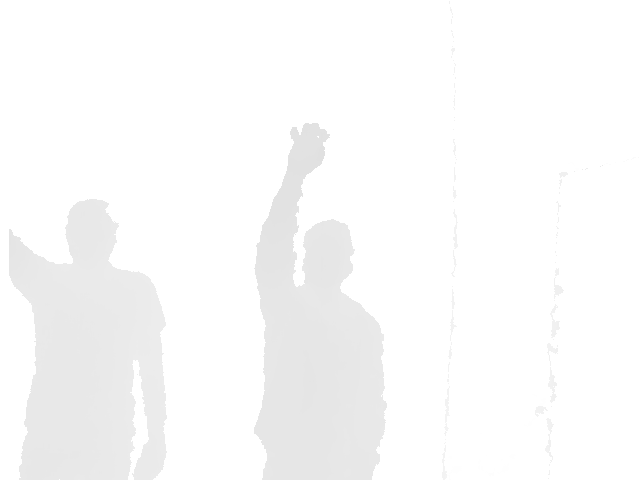hand: (287, 121, 329, 180)
head: (303, 218, 354, 294), (65, 199, 119, 269)
person: (252, 120, 389, 480), (8, 199, 169, 480)
